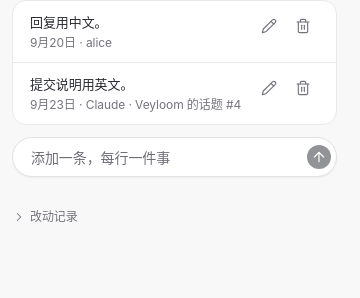
it: MemoryEditor › shows its changes when asked, each one undoable
Click the button "改动记录" at (45, 217), box [12,209,78,225]
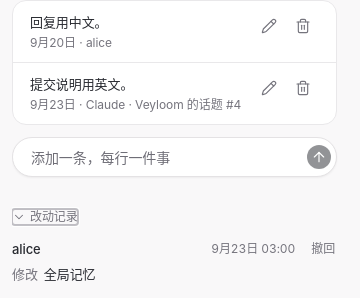
expect the button "撤回" is shown: met, box [303,237,343,261]
